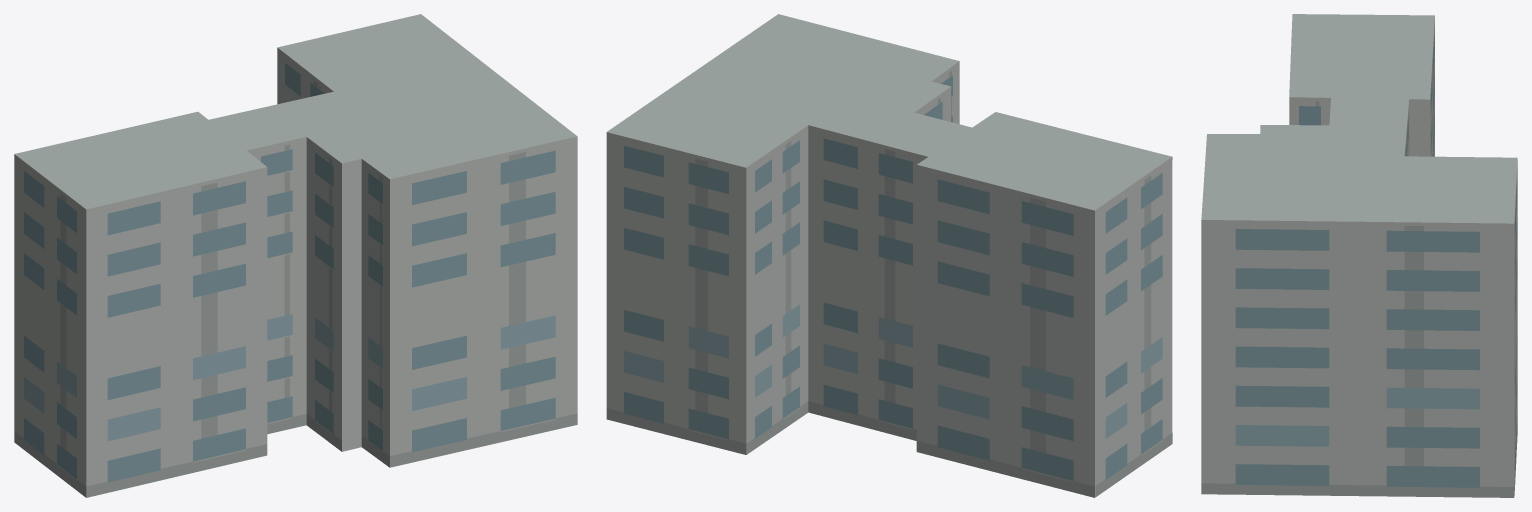
File: survey-upis-32577407.glb
3 renders of one model, left to right at view 1: azimuth 30°, elevation 25°; view 2: azimuth 150°, elevation 25°; view 3: azimuth 270°, elevation 25°, orthographic. The views are drawn at different scales.
Parts seen in each view (by area): view 1: survey-upis-32577407.tmp; view 2: survey-upis-32577407.tmp; view 3: survey-upis-32577407.tmp.
Part boxes in pixels (x1,y1,x2,y2): survey-upis-32577407.tmp: (14,14,577,497); survey-upis-32577407.tmp: (606,14,1172,497); survey-upis-32577407.tmp: (1201,14,1517,497).
Bounding box in the file's own units: 30.72 × 18.75 × 19.6.
